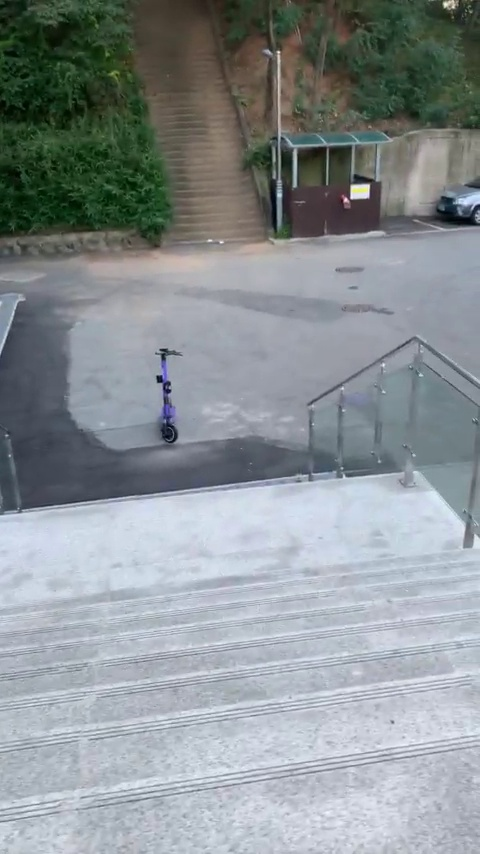beam: (145, 342, 195, 452)
